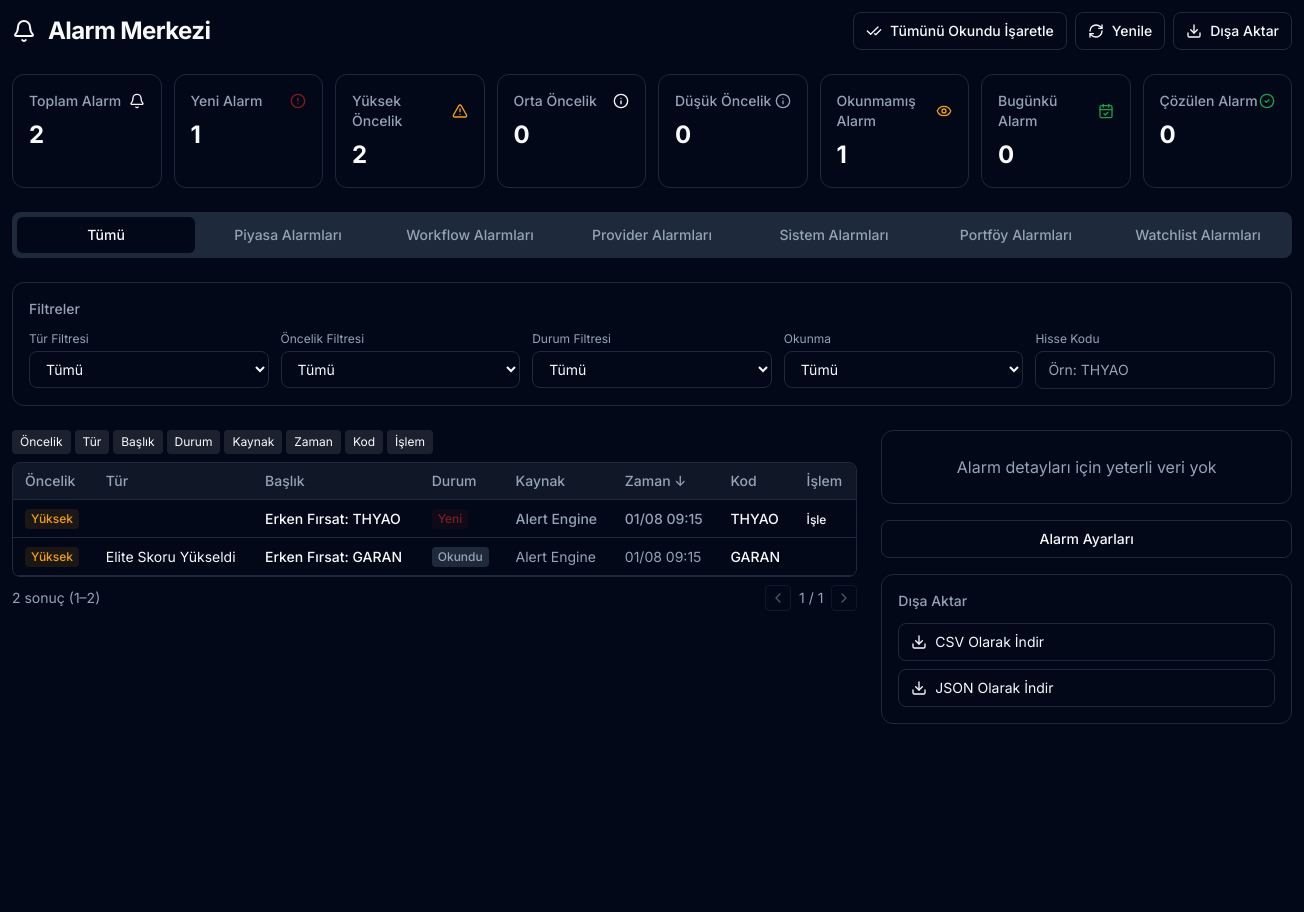
Scenario: AlertsPage › toggles settings panel open
Click the button "Alarm Ayarları".
click(1087, 539)  # box [881, 520, 1292, 558]
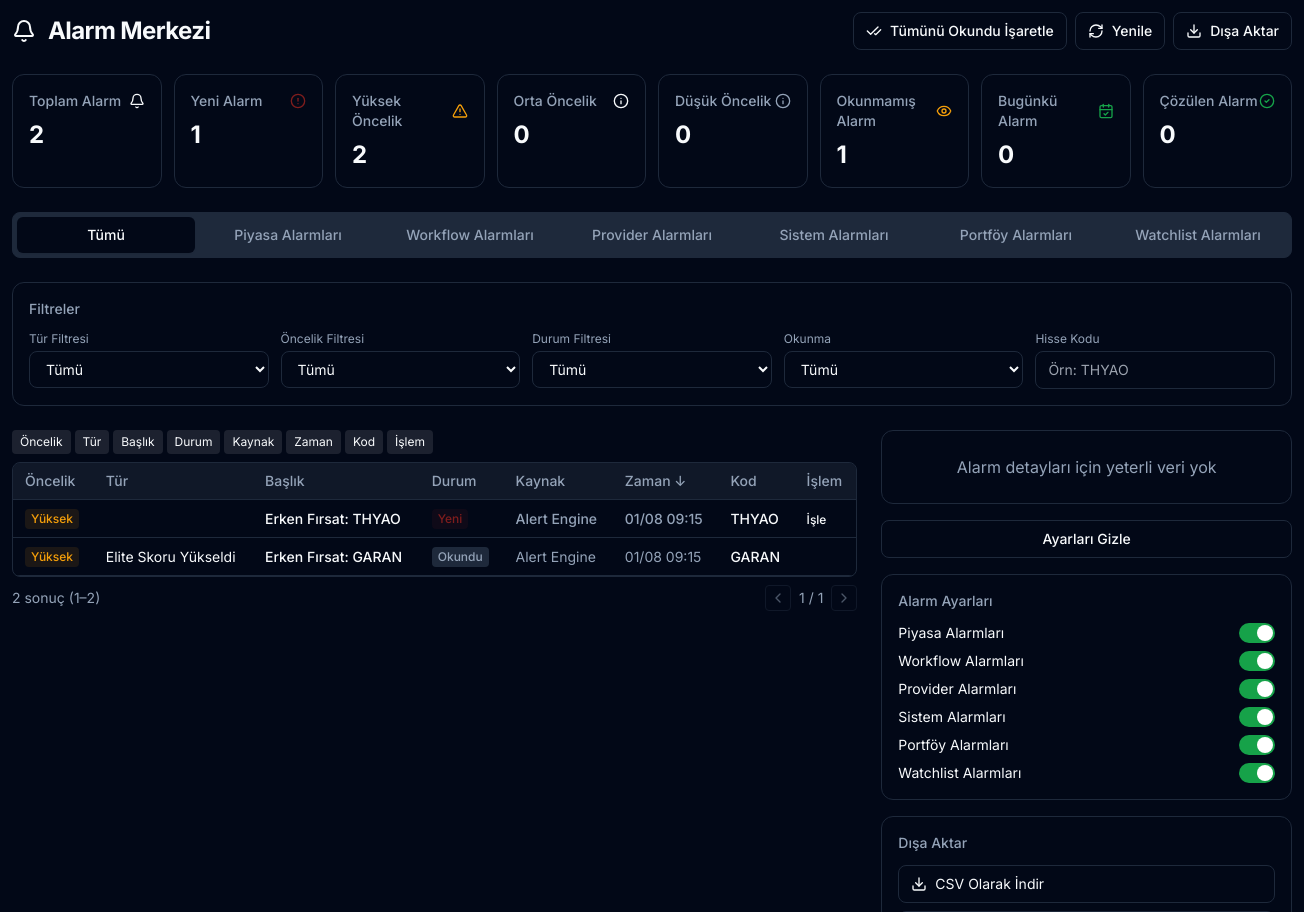
Expected: the button "Ayarları Gizle" is shown, [881, 520, 1292, 558]
Expected: the number of switches is 6, [1239, 623, 1275, 643]; [1239, 651, 1275, 671]; [1239, 679, 1275, 699]; [1239, 707, 1275, 727]; [1239, 735, 1275, 755]; [1239, 763, 1275, 783]
